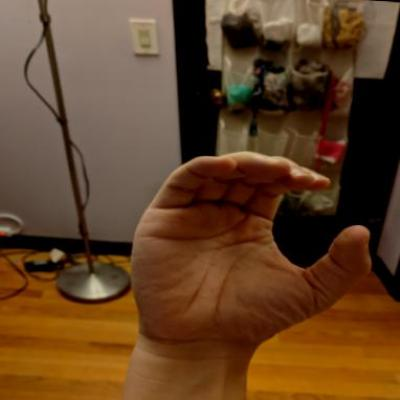hand: (117, 138, 382, 362)
